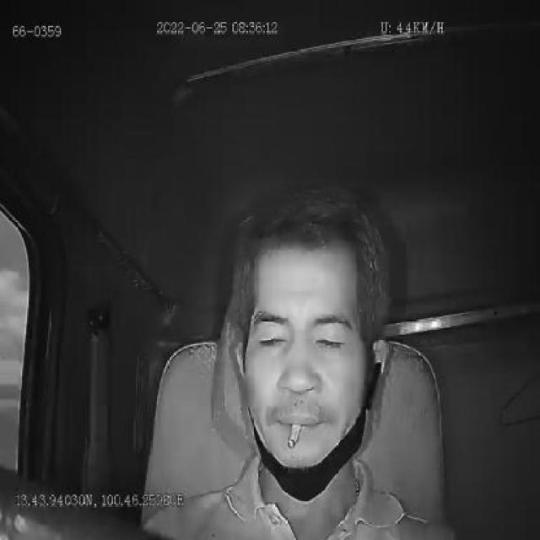smoking: (285, 422, 301, 450)
